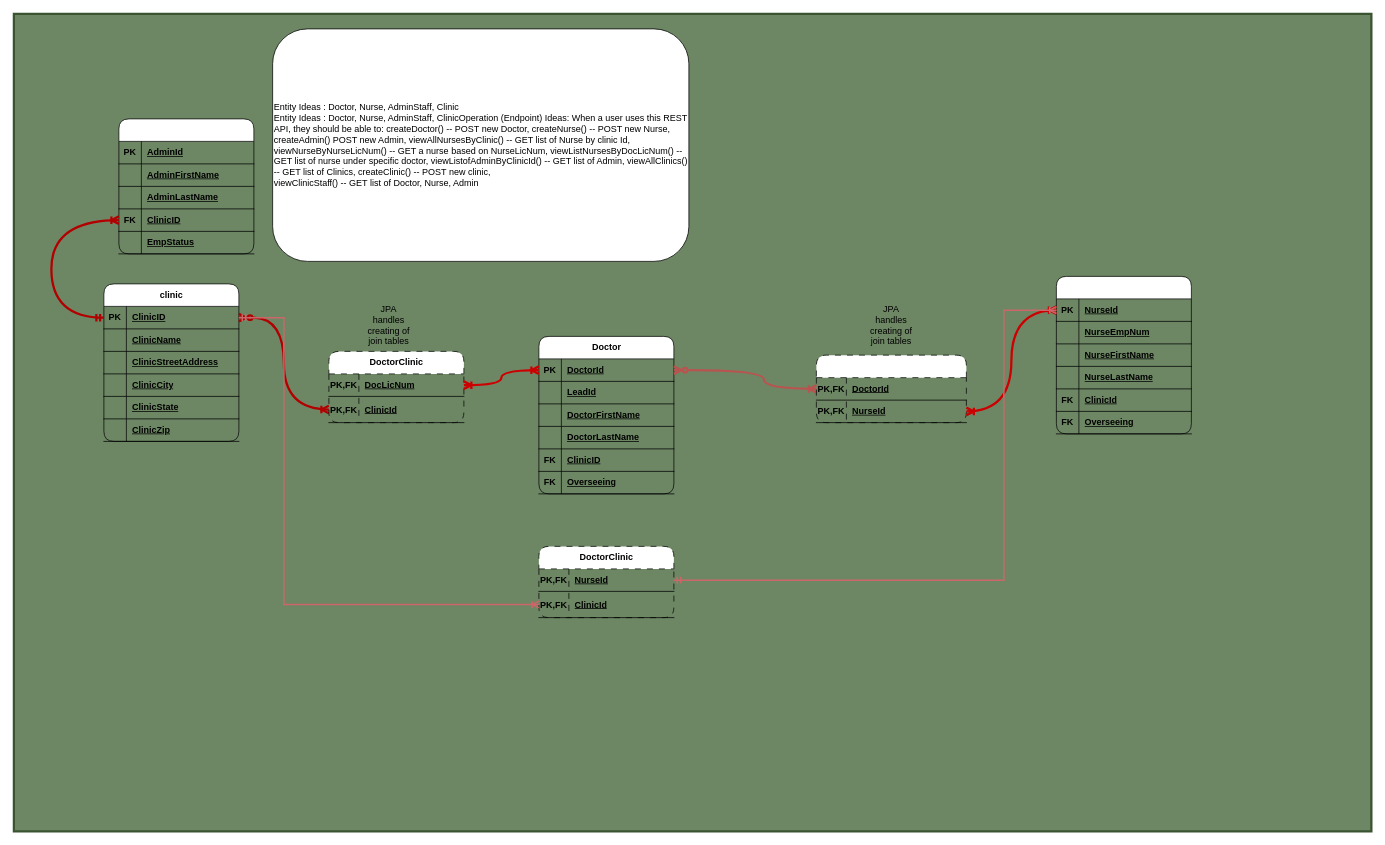
The diagram is 1385 pixels wide and 845 high, and some of its shapes have lost their labels. Each missing label, with the box of its shape:
administration_staff: (118, 118, 254, 254)
DoctorNurse: (816, 354, 966, 423)
nurses: (1056, 276, 1191, 434)
